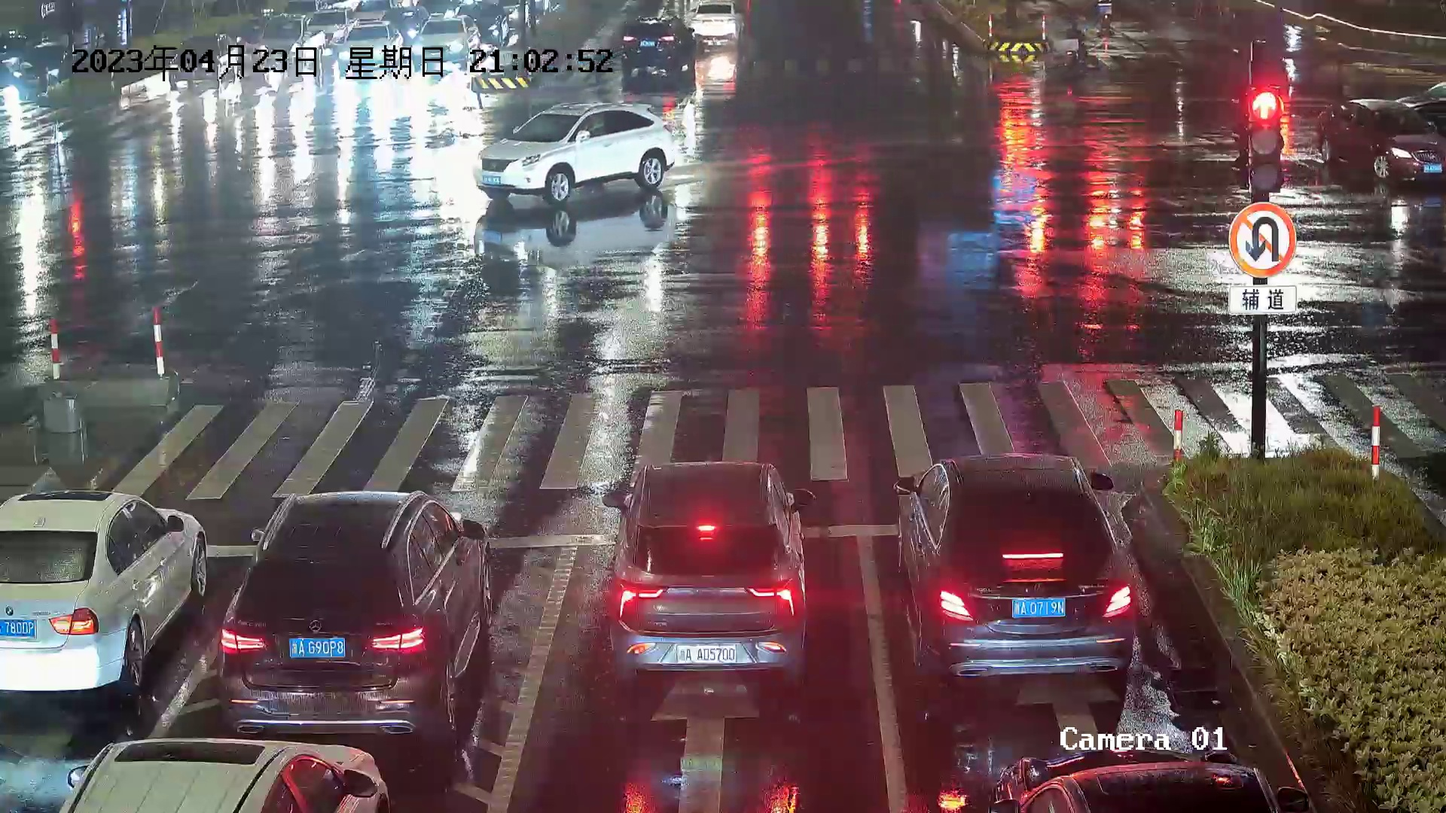vehicle: (214, 479, 494, 738), (888, 443, 1139, 686), (602, 452, 819, 690), (0, 484, 209, 705), (466, 96, 681, 206), (1301, 78, 1446, 199), (616, 12, 698, 77)
